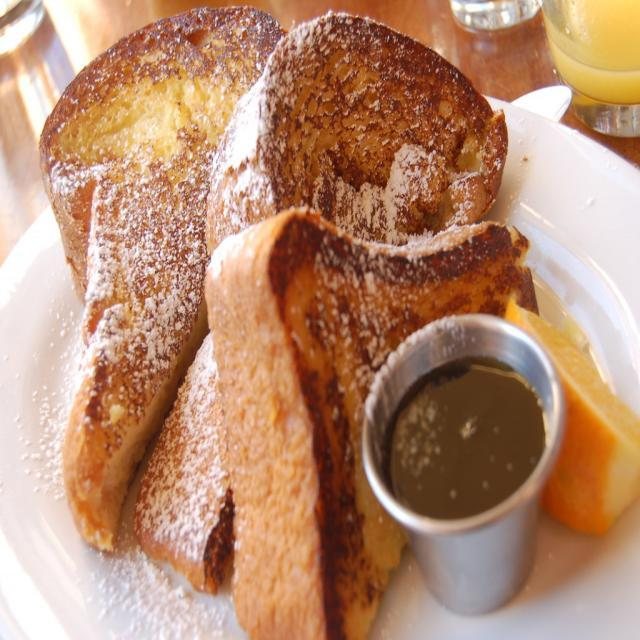Bread: (40, 8, 538, 640), (225, 16, 507, 247)
